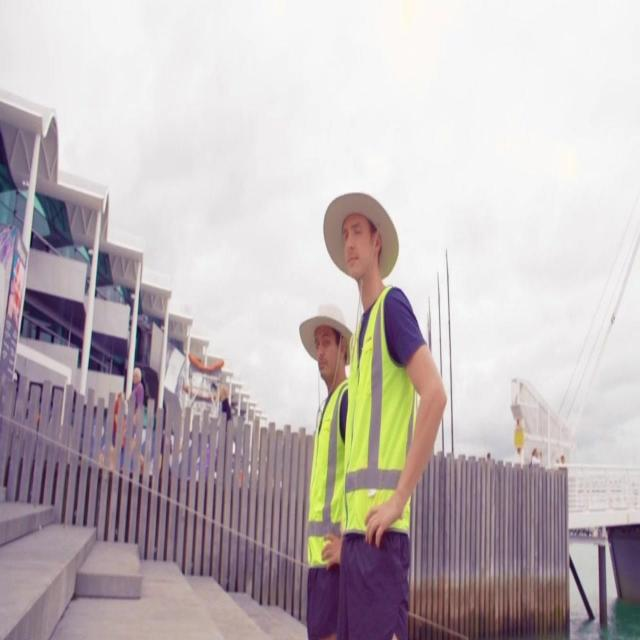vest: (342, 286, 414, 542), (304, 375, 348, 569)
